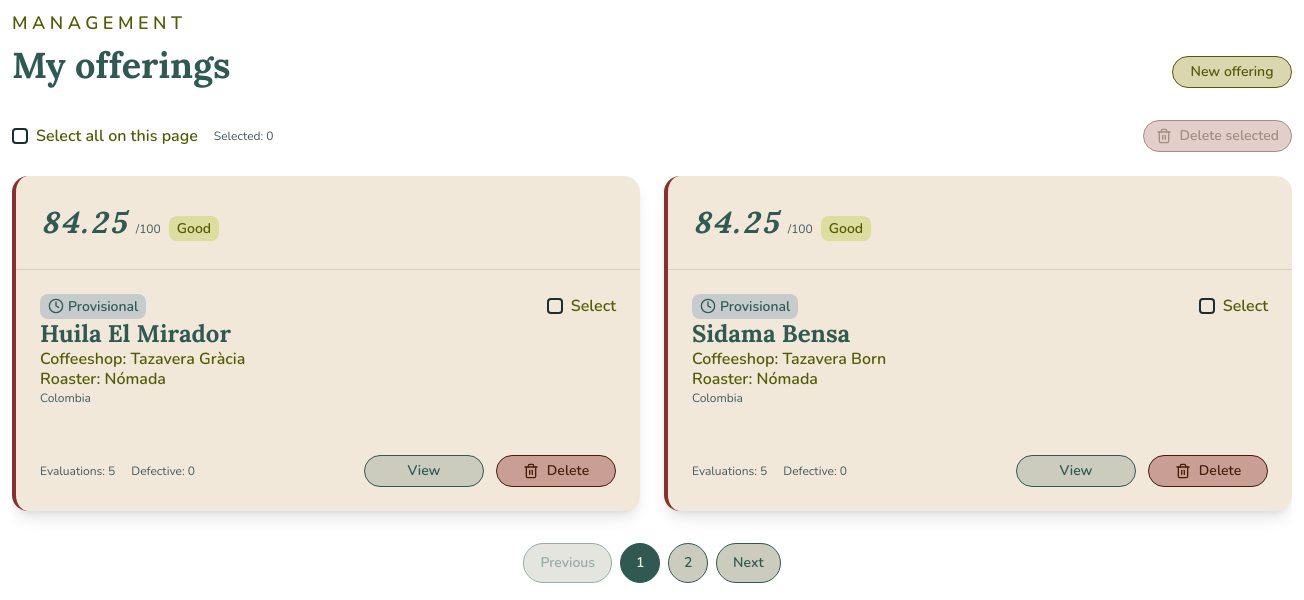
Test: ManageOfferingsPanel — selection (spec 'Offering selection') › disables the bulk delete at zero selected
Expected: the button "Delete selected" is disabled, [1143,120,1292,152]
What coordinates should you click on to do the following:
click the checkbox named "Select Huila El Mirador — Tazavera Gràcia"
I would click on:
 (555, 306)
Its box is [547,298,563,314].
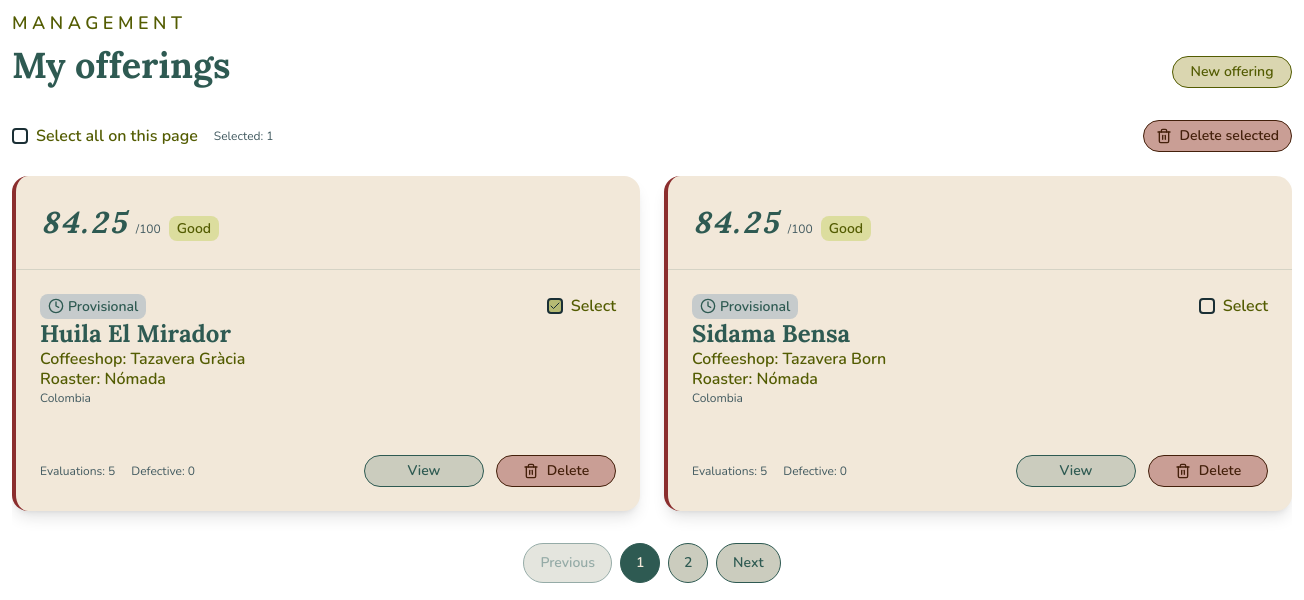
Now the button "Delete selected" is enabled, box [1143,120,1292,152]
